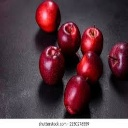apple: (38, 44, 66, 87)
